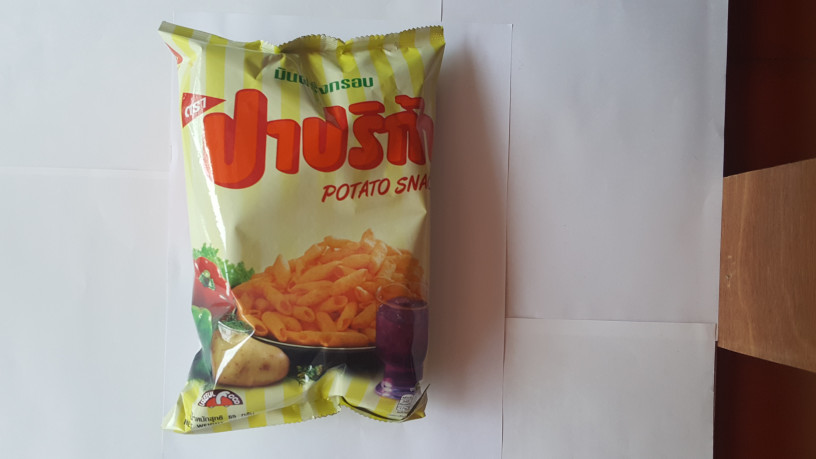paprika: (142, 4, 441, 442)
